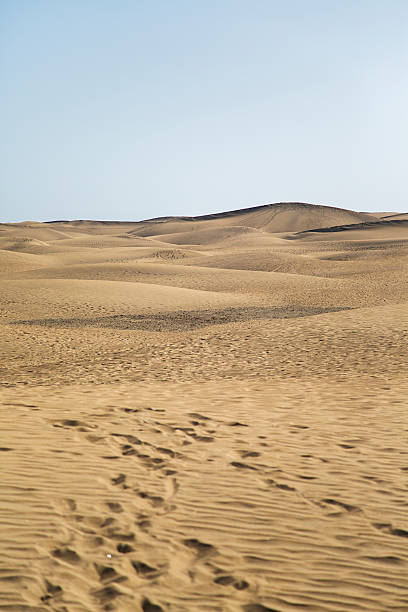human_footprint: (73, 410, 272, 609), (50, 419, 179, 608), (50, 499, 167, 609), (56, 419, 182, 476), (183, 538, 216, 558), (321, 498, 361, 512), (373, 522, 407, 538)
